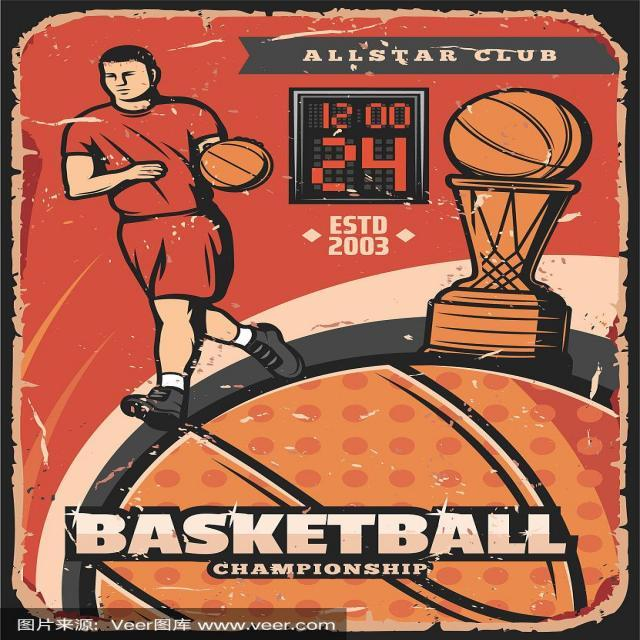rim: (451, 86, 588, 184), (202, 137, 270, 190)
